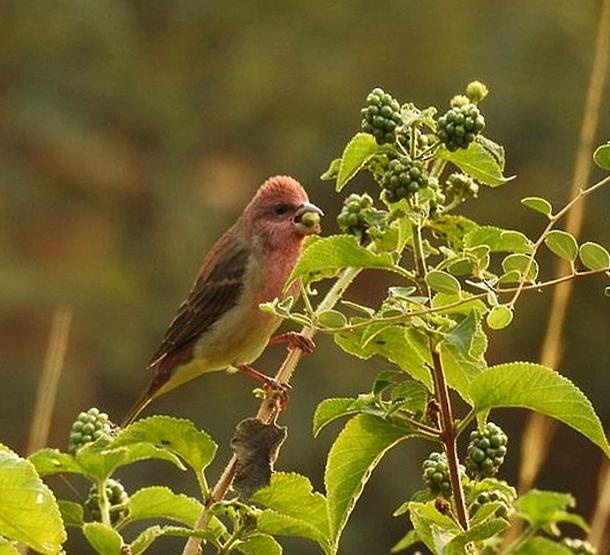rosefinch: (174, 169, 330, 363)
